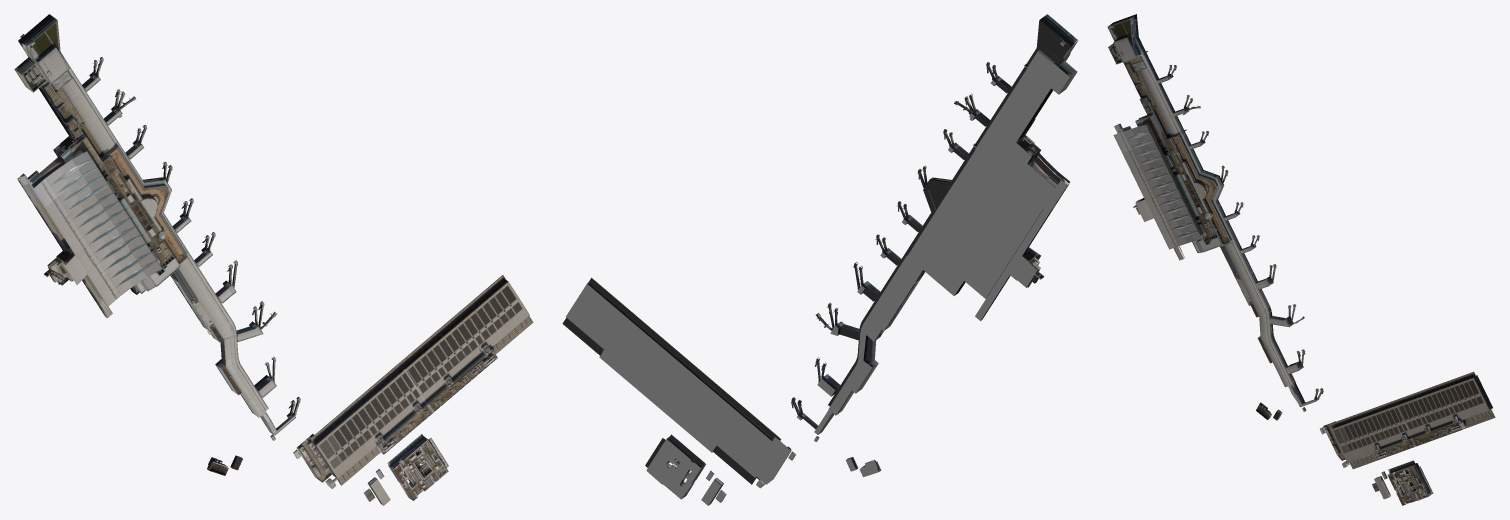
The model's file is 53392641_bldg_6677.obj.
The picture shows the model from 3 angles, left to right: view 1: azimuth 30°, elevation 25°; view 2: azimuth 150°, elevation 25°; view 3: azimuth 330°, elevation 25°; orthographic projection. The views are drawn at different scales.
Bounding box in the file's own units: 861 × 912 × 44.15.
11 materials, 11 textured.
